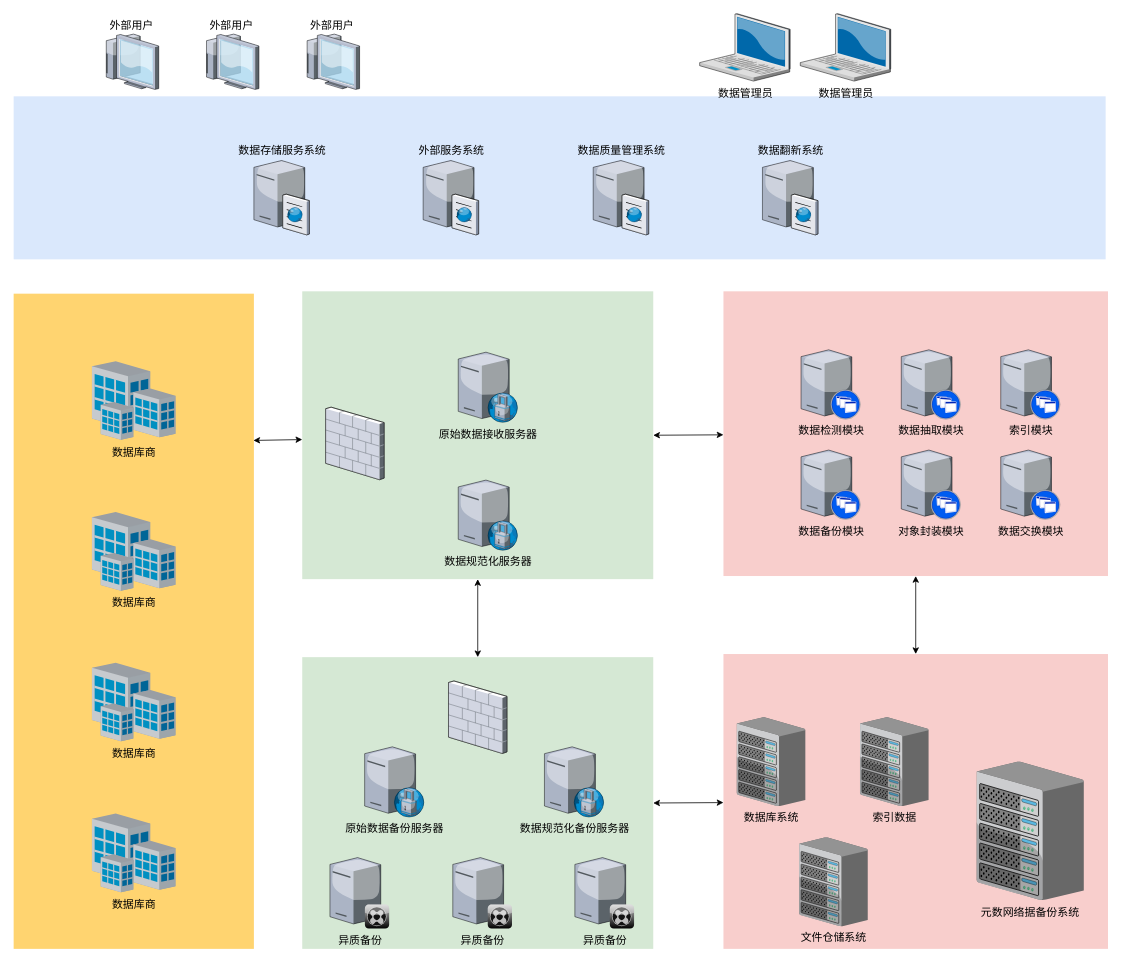
Some shapes in this 1121 by 962 pixel diagram are drawn without their labels. The box of each missing label's shape, as (x1, y1, x2, y2) in pixels:
元数据网络: (723, 654, 1108, 948)
数据处理网络: (723, 291, 1108, 576)
数据备份网络: (302, 657, 653, 948)
数据库商数据网络: (13, 293, 254, 948)
数据接收网络: (302, 291, 653, 579)
数据服务网络: (13, 96, 1105, 259)
